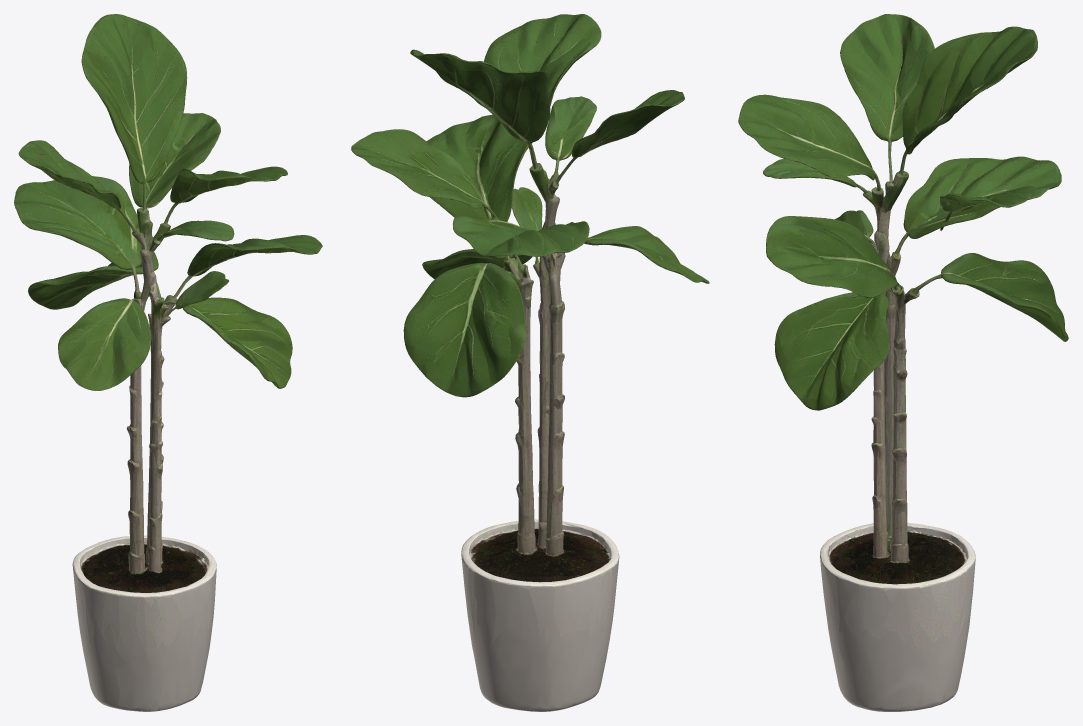
The picture shows the model from 3 angles, left to right: view 1: azimuth 30°, elevation 25°; view 2: azimuth 150°, elevation 25°; view 3: azimuth 270°, elevation 25°; orthographic projection. The views are drawn at different scales.
Visible parts, largest first — view 1: Mesh_0; view 2: Mesh_0; view 3: Mesh_0.
Part boxes in pixels (<box>): Mesh_0: <box>14,14,322,711</box>; Mesh_0: <box>351,14,709,711</box>; Mesh_0: <box>738,14,1068,711</box>.
Bounding box in the file's own units: 0.6782 × 1.52 × 0.6798.
1 material, 1 textured.
